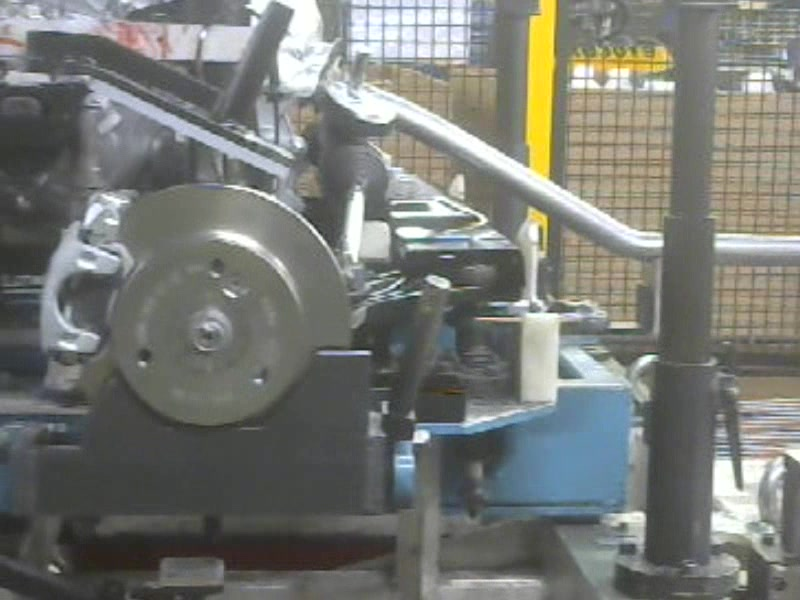DD1: (123, 183, 359, 425)
P1: (39, 187, 139, 389)
